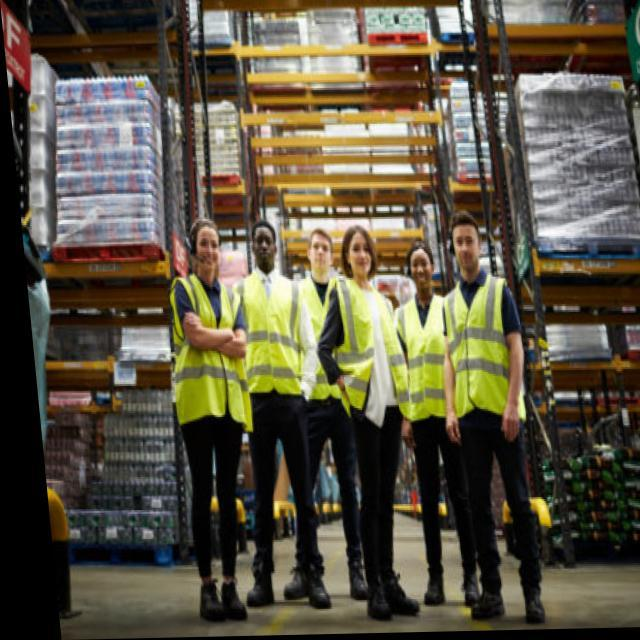shoes: (241, 555, 334, 614), (281, 549, 375, 604), (465, 570, 551, 627), (362, 564, 425, 623), (420, 558, 486, 610), (194, 576, 251, 627)
vest: (437, 272, 529, 428), (325, 271, 416, 426), (162, 272, 250, 432), (233, 265, 309, 401), (393, 290, 465, 425), (295, 273, 360, 403)
